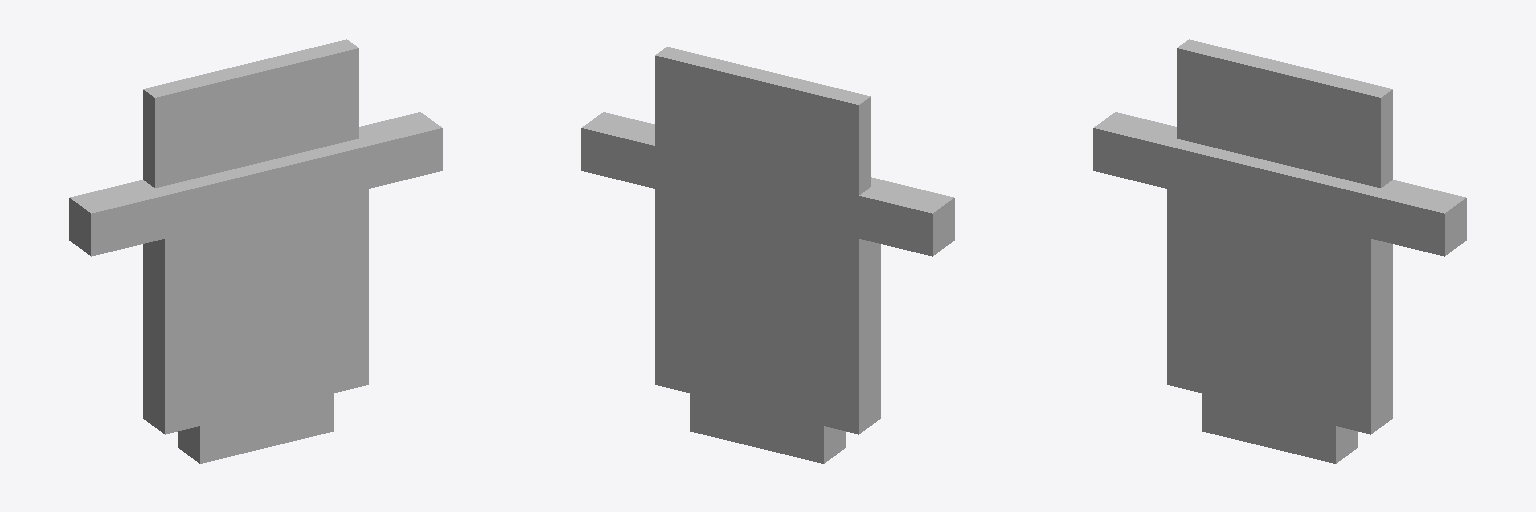
File: baps.obj
3 views of the same model, side by side, from view 1: azimuth 30°, elevation 25°; view 2: azimuth 150°, elevation 25°; view 3: azimuth 330°, elevation 25° (orthographic).
Parts seen in each view (by area): view 1: Baps_V2.001_Baps_V2.022, Baps_V2.003_Baps_V2.026, Baps_V2.002_Baps_V2.025, Baps_V2.000, Baps_V2.004_Baps_V2.027, Baps_V2.010_Baps_V2.033, Baps_V2.006_Baps_V2.029, Baps_V2.007_Baps_V2.030, Baps_V2.009_Baps_V2.032, Baps_V2.012_Baps_V2.035; view 2: Baps_V2.020_Baps_V2.043, Baps_V2.023_Baps_V2.045, Baps_V2.022_Baps_V2.044, Baps_V2.019_Baps_V2.042, Baps_V2.010_Baps_V2.033, Baps_V2.004_Baps_V2.027, Baps_V2.006_Baps_V2.029, Baps_V2.007_Baps_V2.030, Baps_V2.009_Baps_V2.032, Baps_V2.012_Baps_V2.035; view 3: Baps_V2.001_Baps_V2.022, Baps_V2.003_Baps_V2.026, Baps_V2.002_Baps_V2.025, Baps_V2.000, Baps_V2.004_Baps_V2.027, Baps_V2.016_Baps_V2.039, Baps_V2.006_Baps_V2.029, Baps_V2.005_Baps_V2.028, Baps_V2.018_Baps_V2.041, Baps_V2.014_Baps_V2.037.
Boxes of the visible parts, x1,y1,x2,y2 form: Baps_V2.001_Baps_V2.022: [165, 189, 368, 434]; Baps_V2.003_Baps_V2.026: [155, 48, 358, 187]; Baps_V2.002_Baps_V2.025: [91, 128, 442, 256]; Baps_V2.000: [200, 394, 333, 463]; Baps_V2.004_Baps_V2.027: [70, 112, 441, 213]; Baps_V2.010_Baps_V2.033: [143, 239, 164, 433]; Baps_V2.006_Baps_V2.029: [143, 39, 357, 97]; Baps_V2.007_Baps_V2.030: [143, 90, 154, 187]; Baps_V2.009_Baps_V2.032: [69, 198, 90, 255]; Baps_V2.012_Baps_V2.035: [178, 426, 199, 463]; Baps_V2.020_Baps_V2.043: [655, 189, 858, 434]; Baps_V2.023_Baps_V2.045: [655, 56, 858, 195]; Baps_V2.022_Baps_V2.044: [581, 128, 932, 256]; Baps_V2.019_Baps_V2.042: [690, 394, 823, 463]; Baps_V2.010_Baps_V2.033: [859, 239, 880, 433]; Baps_V2.004_Baps_V2.027: [582, 112, 953, 213]; Baps_V2.006_Baps_V2.029: [655, 47, 870, 104]; Baps_V2.007_Baps_V2.030: [859, 97, 870, 194]; Baps_V2.009_Baps_V2.032: [933, 198, 954, 255]; Baps_V2.012_Baps_V2.035: [824, 426, 845, 463]; Baps_V2.001_Baps_V2.022: [1167, 189, 1370, 434]; Baps_V2.003_Baps_V2.026: [1177, 48, 1380, 187]; Baps_V2.002_Baps_V2.025: [1093, 128, 1444, 256]; Baps_V2.000: [1202, 394, 1335, 463]; Baps_V2.004_Baps_V2.027: [1094, 112, 1465, 213]; Baps_V2.016_Baps_V2.039: [1371, 239, 1392, 433]; Baps_V2.006_Baps_V2.029: [1178, 39, 1392, 97]; Baps_V2.005_Baps_V2.028: [1381, 90, 1392, 187]; Baps_V2.018_Baps_V2.041: [1445, 198, 1466, 255]; Baps_V2.014_Baps_V2.037: [1336, 426, 1357, 463].
Bounding box in the file's own units: 61.93 × 61.93 × 6.71.